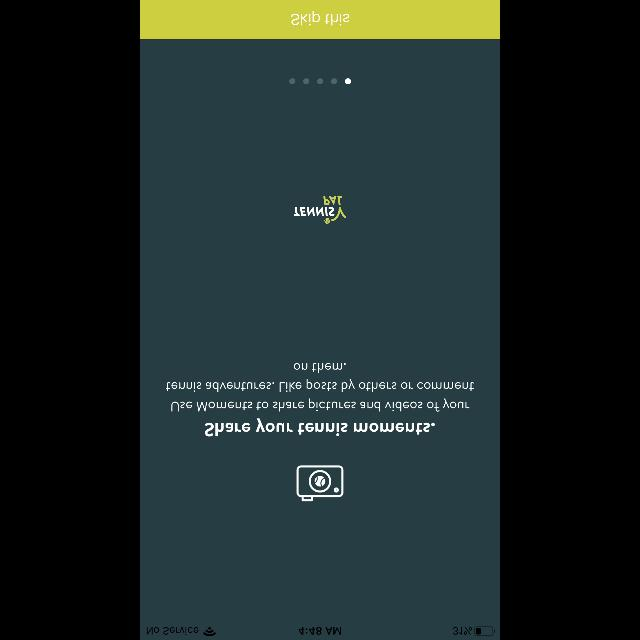image: (297, 465, 343, 501), (294, 196, 346, 224)
pageindicator: (290, 78, 350, 84)
text: (166, 363, 474, 411), (206, 418, 434, 436)
textbutton: (140, 1, 500, 40)
uppertaskbar: (140, 626, 500, 640)
